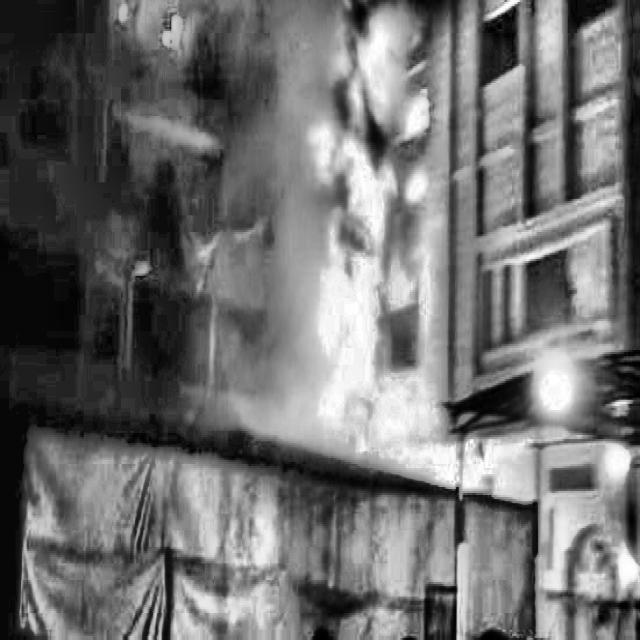fire: (286, 0, 458, 503)
